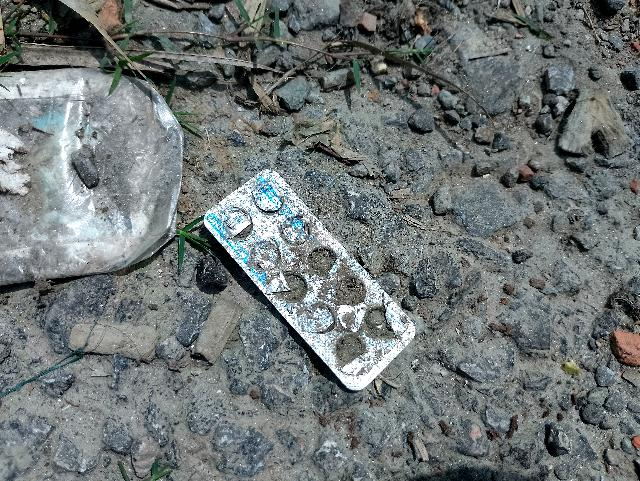medicine: (196, 159, 425, 400)
